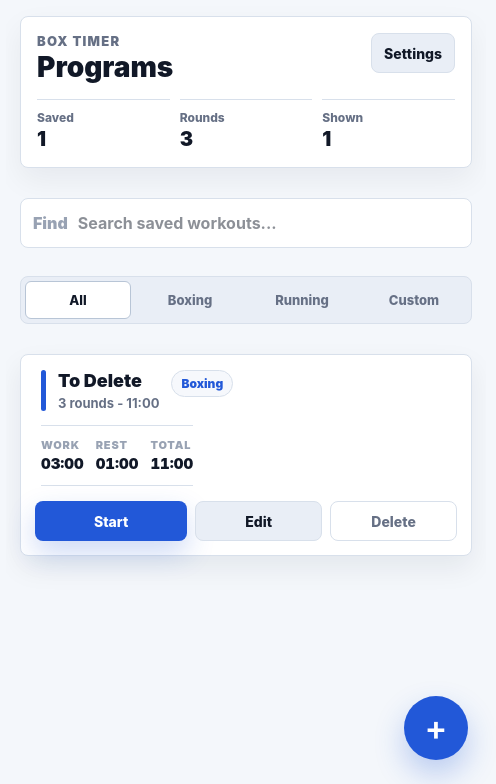
Scenario: App navigation flow › deletes a program after confirmation
Check: the text "To Delete" is shown, box [58,370,142,391]
What coordinates should you click on to do the following:
click the button "Delete"
I would click on:
 (394, 521)
Its box is [330,501,457,541].
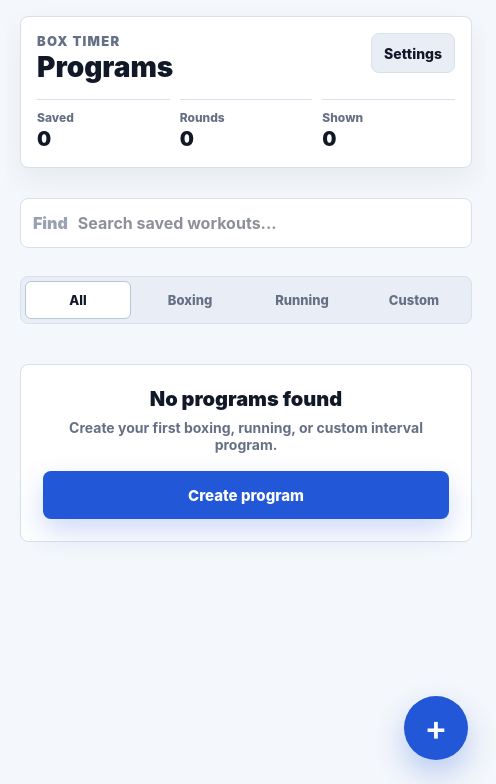
Check: the button "To Delete" is gone
